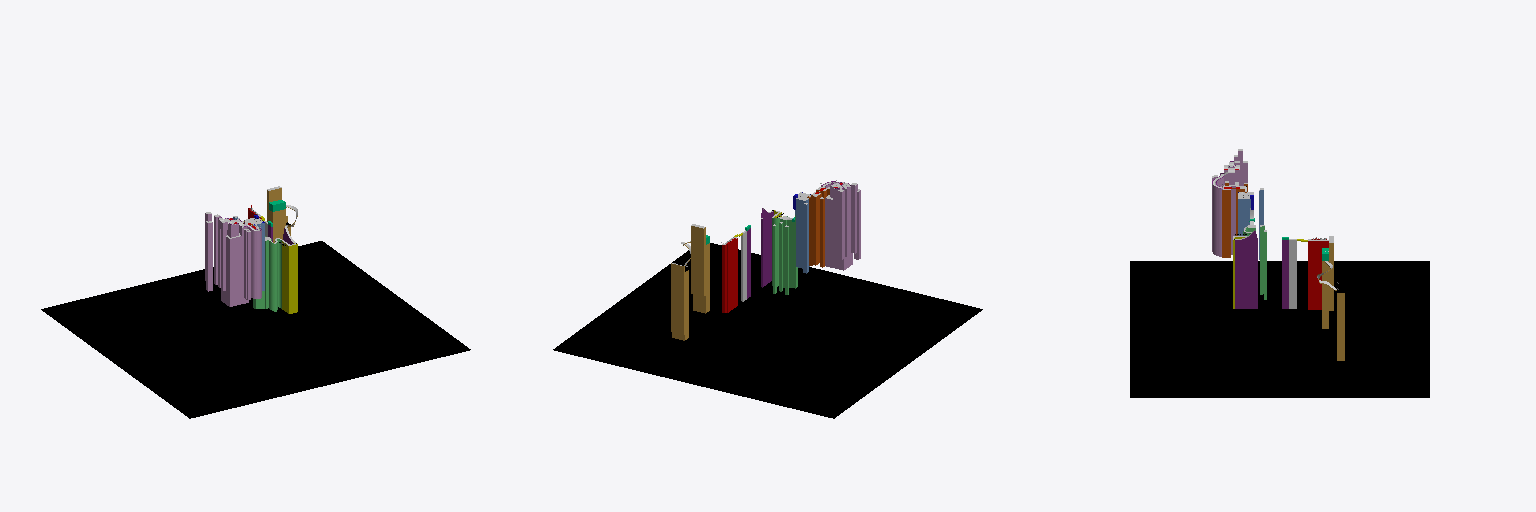
The picture shows the model from 3 angles: view 1: azimuth 30°, elevation 25°; view 2: azimuth 150°, elevation 25°; view 3: azimuth 270°, elevation 25°; orthographic projection.
Parts seen in each view (by area): view 1: E:LIMIT, _Instance.029, _Instance.103, _Instance.019, _Instance.105; view 2: E:LIMIT, _Instance.151, _Instance.159, _Instance.029, _Instance.110, _Instance.147; view 3: E:LIMIT, _Instance.110, _Instance.125, _Instance.019, _Instance.037, _Instance.117, _Instance.157.
Part boxes in pixels (left/top/right/bottom): E:LIMIT: left=41, top=241, right=470, bottom=418; _Instance.029: left=221, top=236, right=248, bottom=306; _Instance.103: left=269, top=239, right=281, bottom=311; _Instance.019: left=247, top=227, right=261, bottom=298; _Instance.105: left=282, top=241, right=290, bottom=313; E:LIMIT: left=553, top=243, right=982, bottom=418; _Instance.151: left=691, top=226, right=705, bottom=296; _Instance.159: left=671, top=263, right=684, bottom=334; _Instance.029: left=825, top=198, right=852, bottom=270; _Instance.110: left=761, top=211, right=773, bottom=287; _Instance.147: left=728, top=239, right=735, bottom=311; E:LIMIT: left=1130, top=261, right=1429, bottom=397; _Instance.110: left=1235, top=240, right=1257, bottom=308; _Instance.125: left=1308, top=241, right=1326, bottom=309; _Instance.019: left=1212, top=184, right=1220, bottom=256; _Instance.037: left=1222, top=190, right=1230, bottom=257; _Instance.117: left=1289, top=240, right=1296, bottom=308; _Instance.157: left=1337, top=293, right=1344, bottom=360.
Bounding box in the file's own units: 432 × 216 × 398.